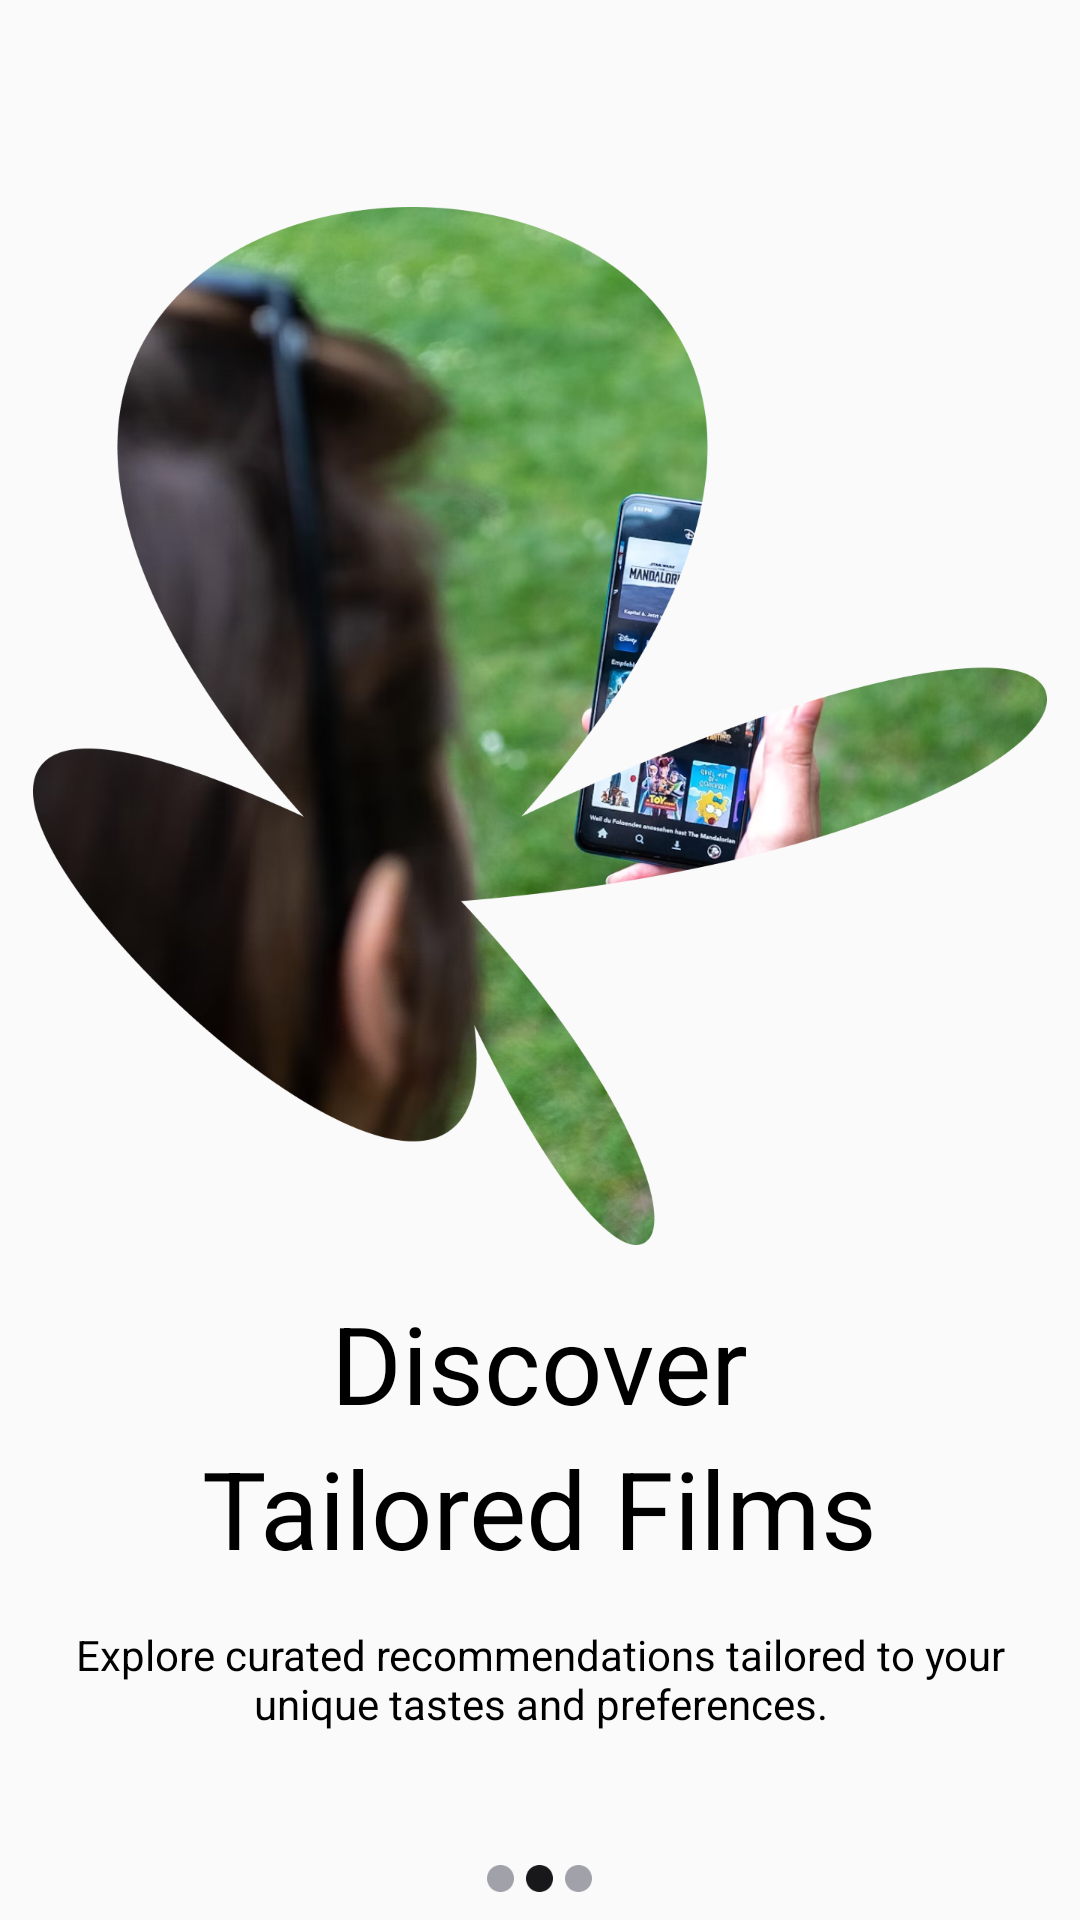

Locate icon controls on the screen. Image size 1080x1920, boxes as (x1, y1, x2, y2).
navbaronboard: (487, 1865, 592, 1892)
